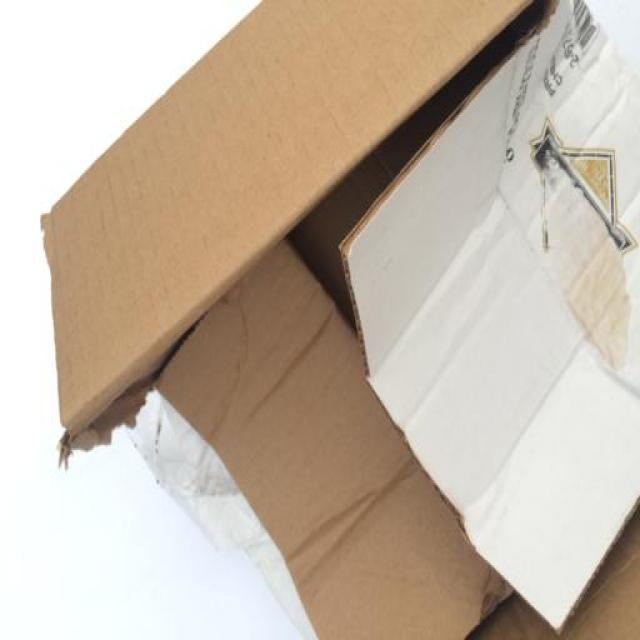cardboard: (30, 2, 640, 640)
